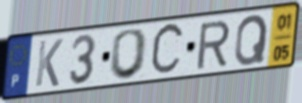3: (67, 32, 99, 87)
C: (148, 19, 187, 80)
K: (33, 38, 65, 89)
O: (107, 26, 151, 82)
Q: (232, 12, 270, 68)
R: (194, 18, 232, 72)
